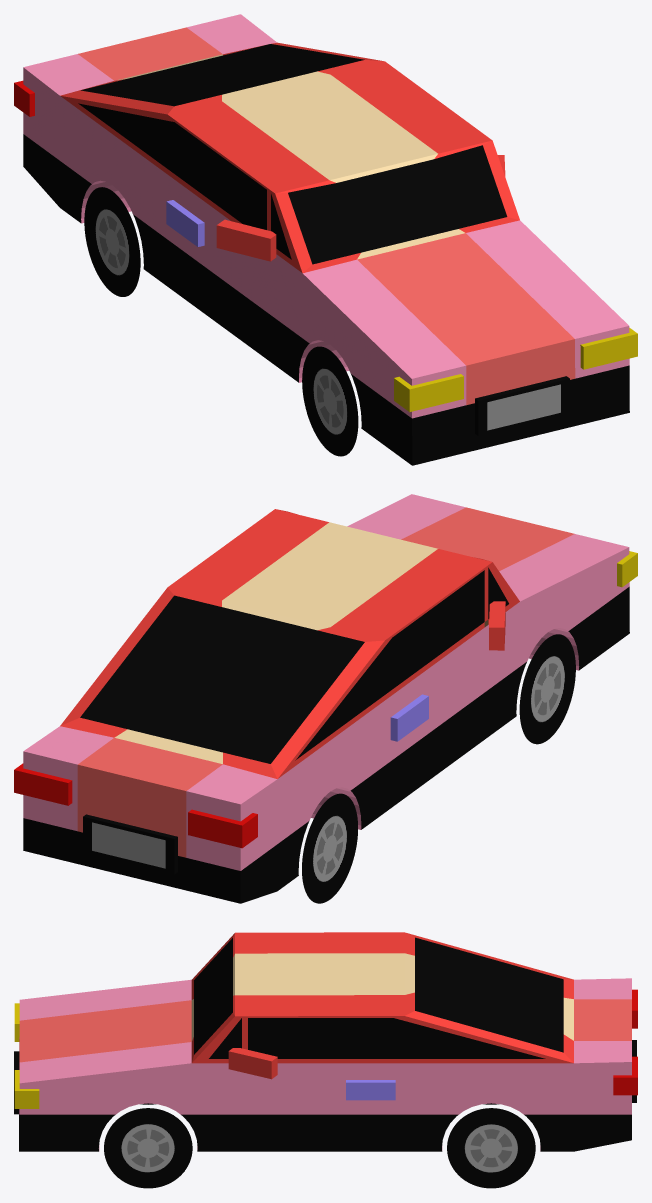
File: Mobil_1_Pink_D.fbx
The picture shows the model from 3 angles, top to bottom: view 1: azimuth 30°, elevation 25°; view 2: azimuth 150°, elevation 25°; view 3: azimuth 270°, elevation 25°; orthographic projection. The views are drawn at different scales.
Parts seen in each view (by area): view 1: Mobil1; view 2: Mobil1; view 3: Mobil1.
Part boxes in pixels (bbox=[...]): Mobil1: bbox=[14, 14, 637, 465]; Mobil1: bbox=[14, 494, 637, 903]; Mobil1: bbox=[14, 932, 637, 1188].
Bounding box in the file's own units: 529 × 385 × 1261.
6 materials, 4 textured.
